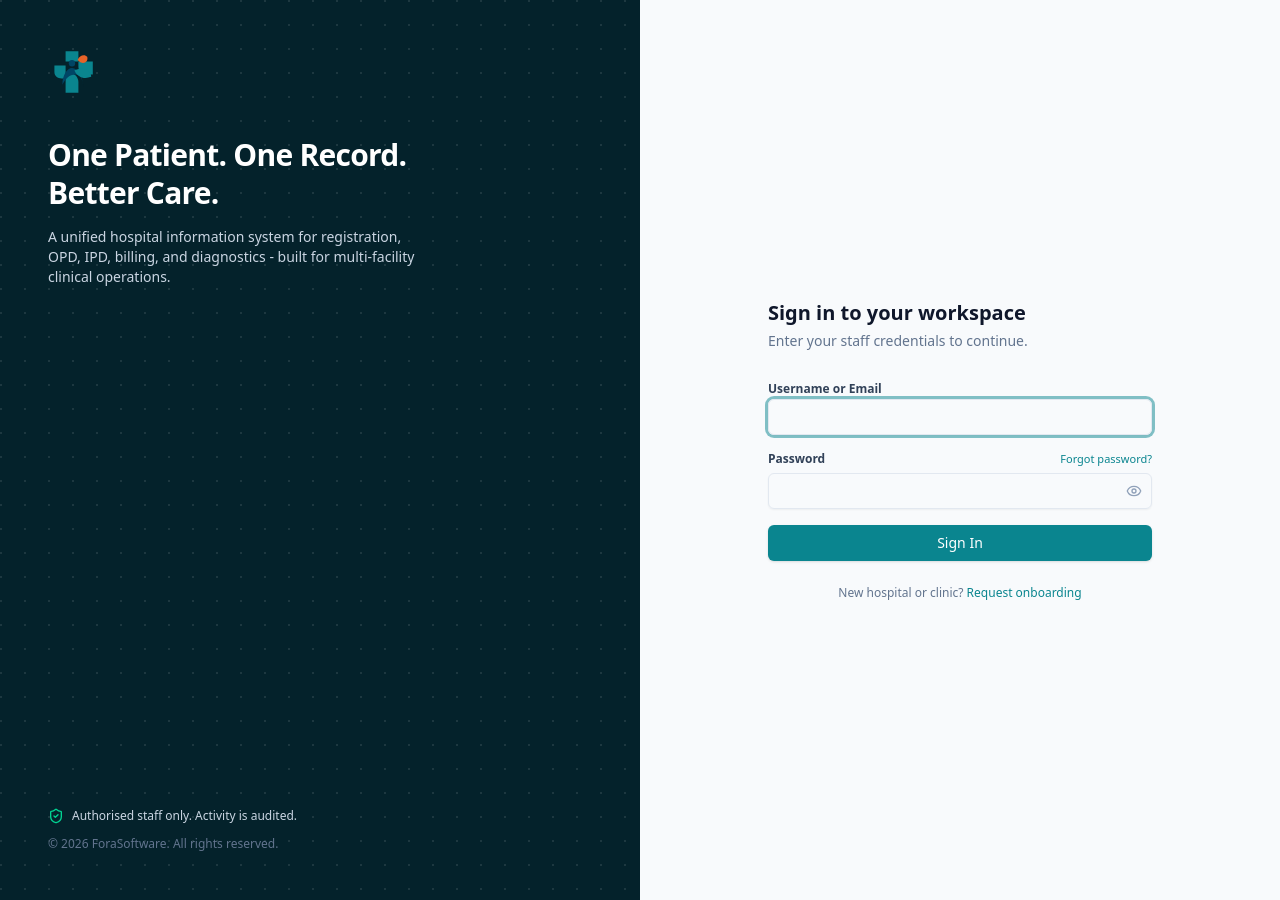
it: login page › shows a distinct disabled-account state
Type "dr.who" into the field labelled "Username or Email" at (960,417), box [768,399,1152,435]
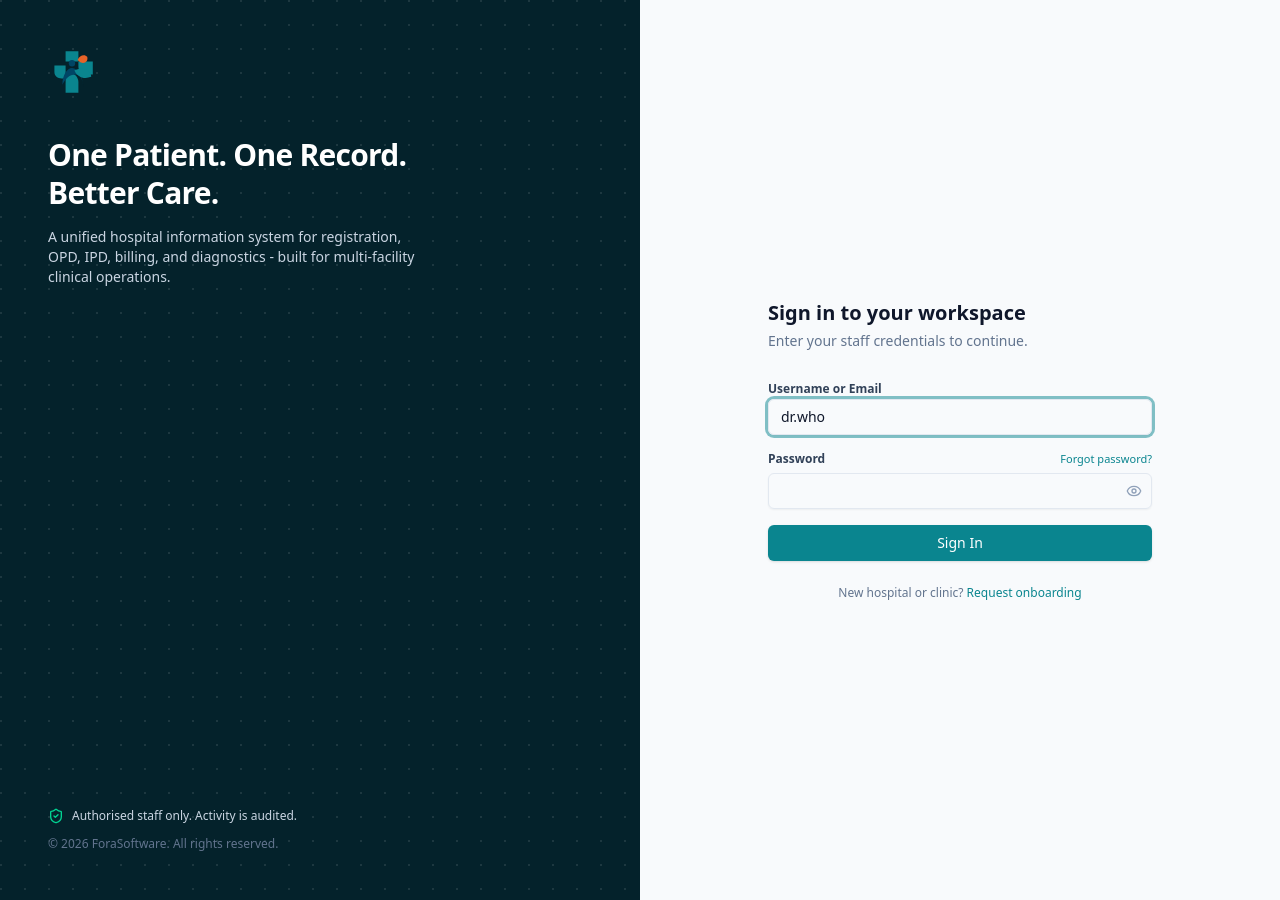
Type "pw" into the password field labelled "Password" at (960,491), box [768,473,1152,509]
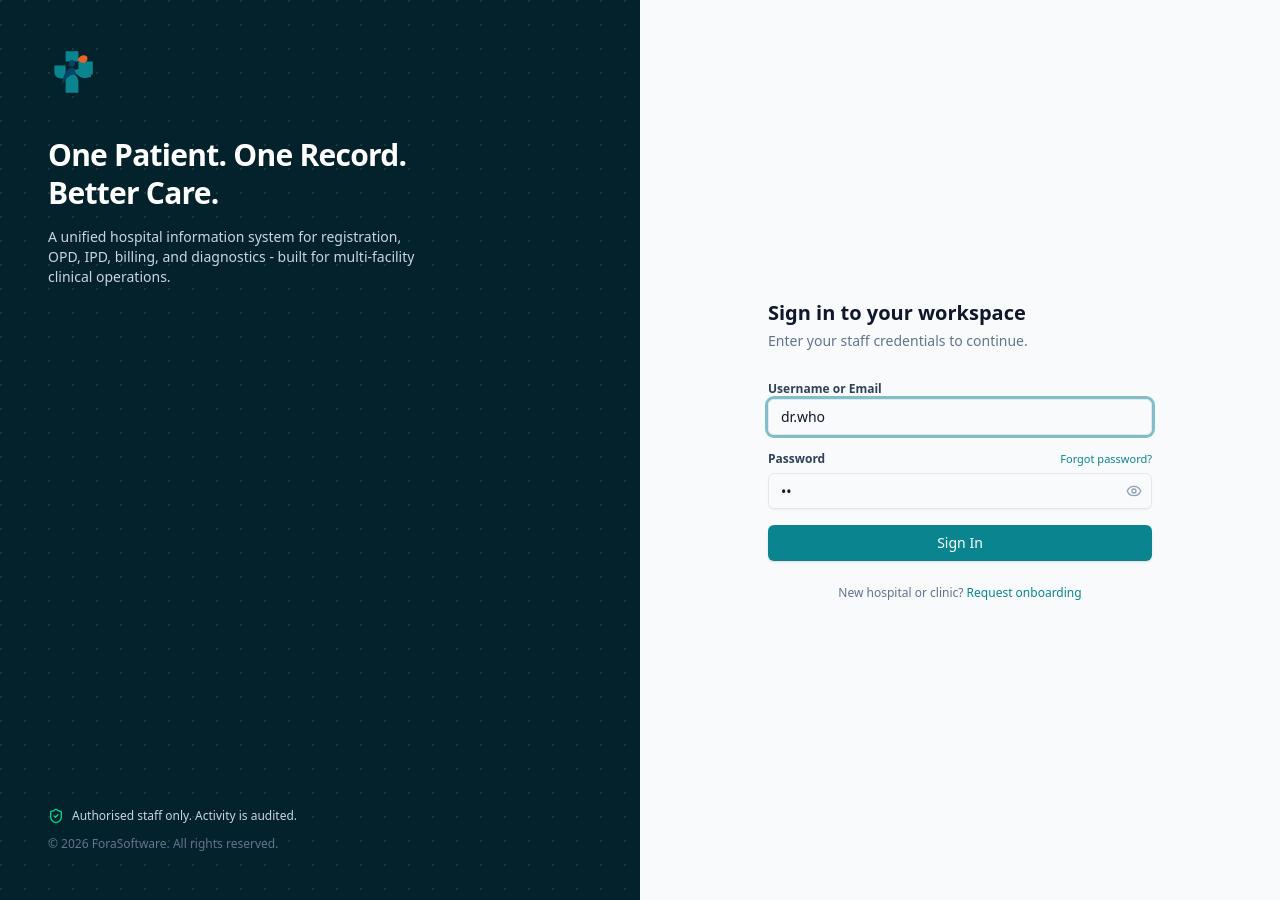
Click the button "Sign In" at (960,543), box [768,525,1152,561]
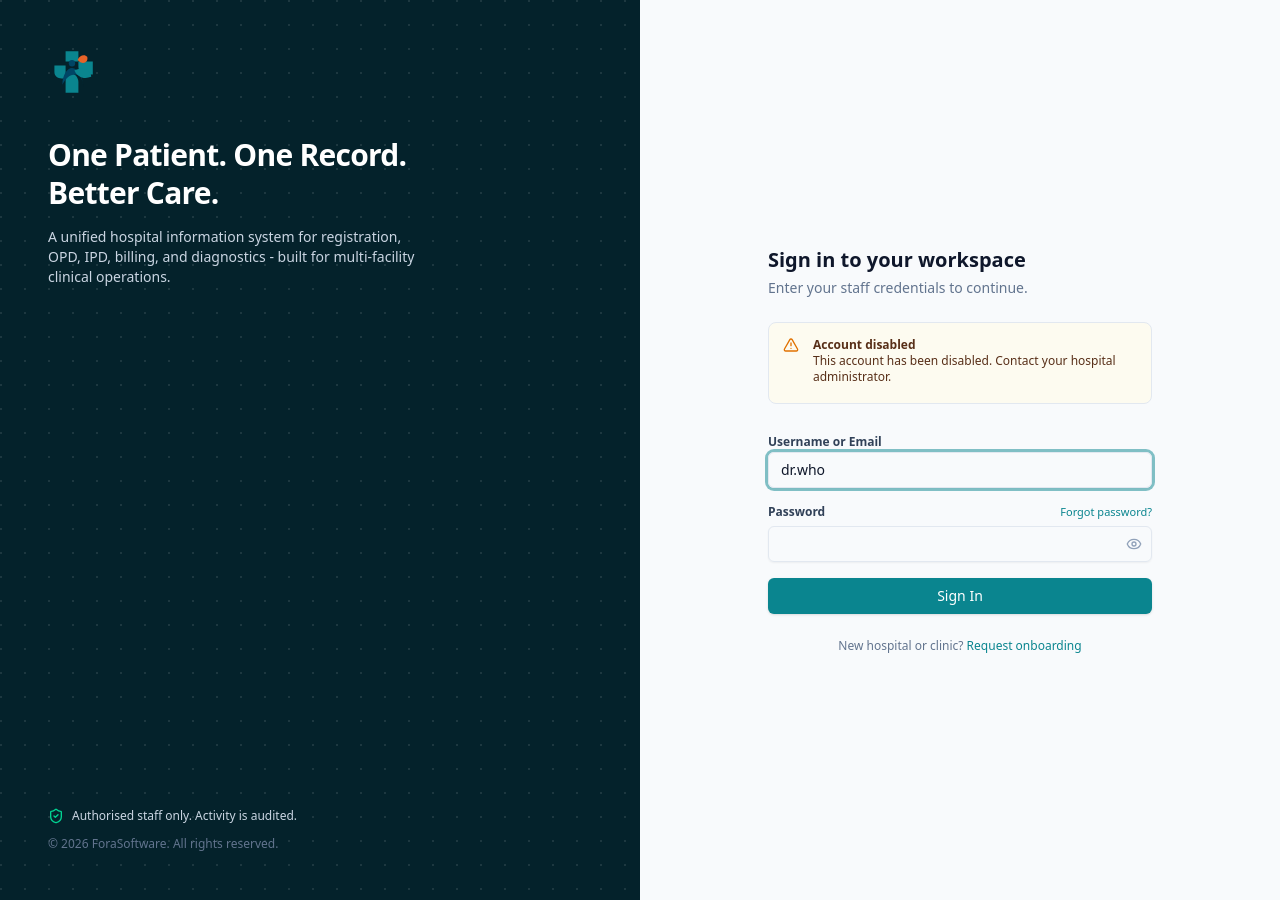
Expected: the text "Account disabled" is shown, [813,336,916,353]
